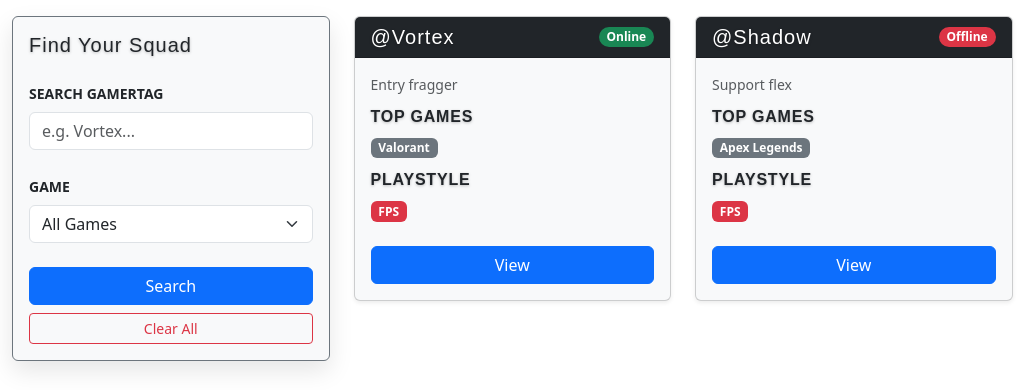
PlayerListing Component › clears all filters when Clear All is clicked
// Apply a filter first
Type "Vortex" into the field with placeholder "e.g. Vortex..." at x=171, y=131, box [29, 112, 312, 150]
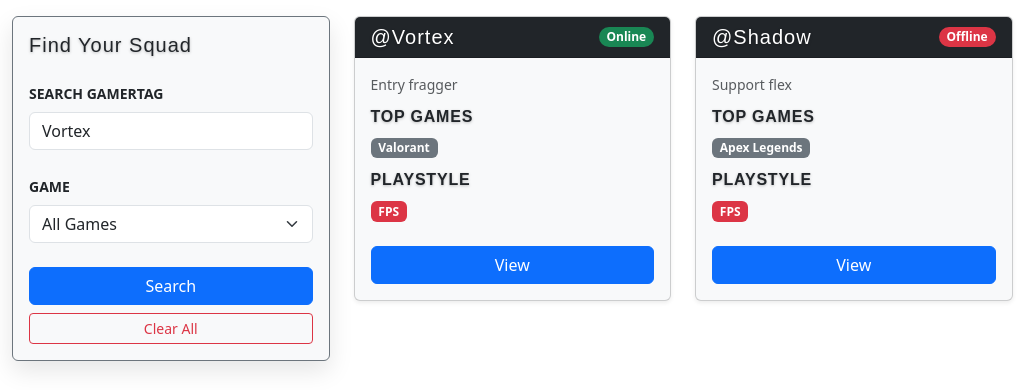
Click the button "Search" at x=171, y=286, box [29, 267, 312, 305]
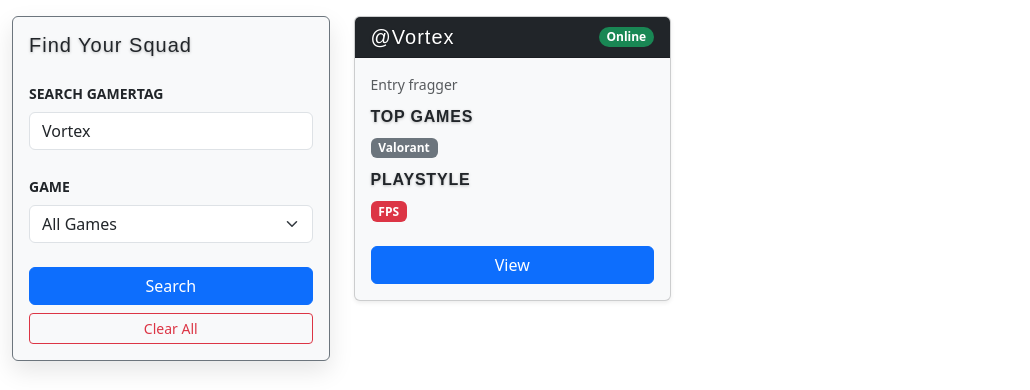
Result: the heading "@Shadow" is gone
// Click Clear All
Click the button "Clear All" at x=171, y=328, box [29, 313, 312, 344]
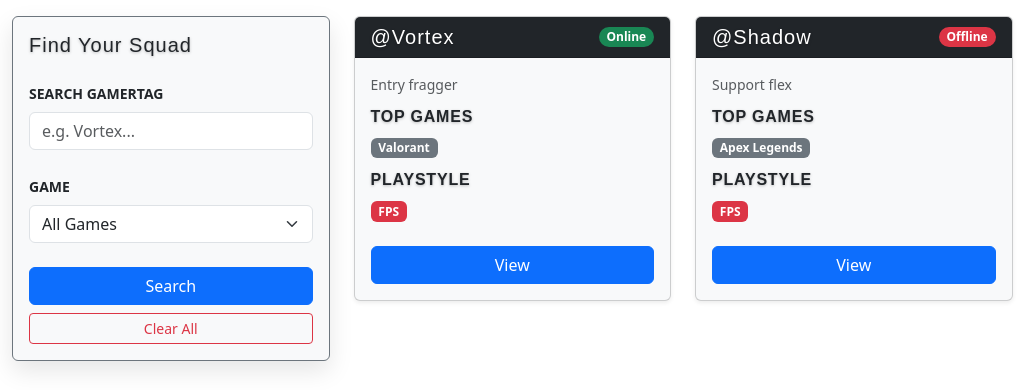
Expected: the heading "@Vortex" is shown, [370, 25, 454, 49]
Result: the heading "@Shadow" is shown at [712, 25, 812, 49]
Result: the field with placeholder "e.g. Vortex..." is empty at [29, 112, 312, 150]
